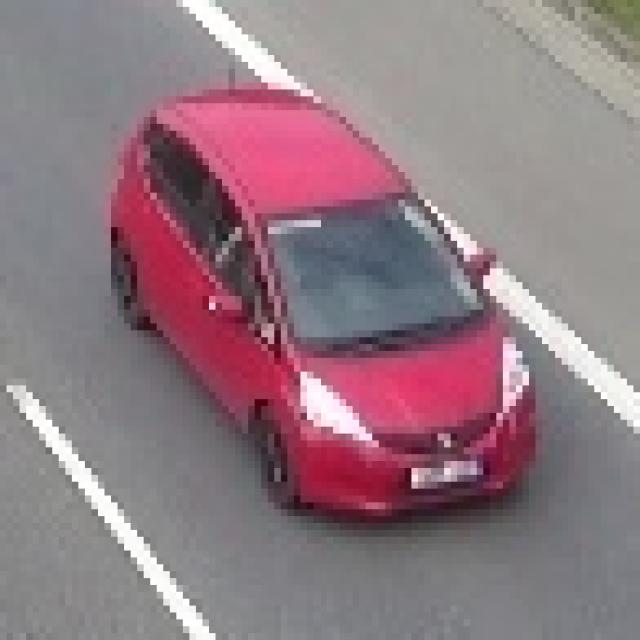red: (121, 91, 546, 521)
